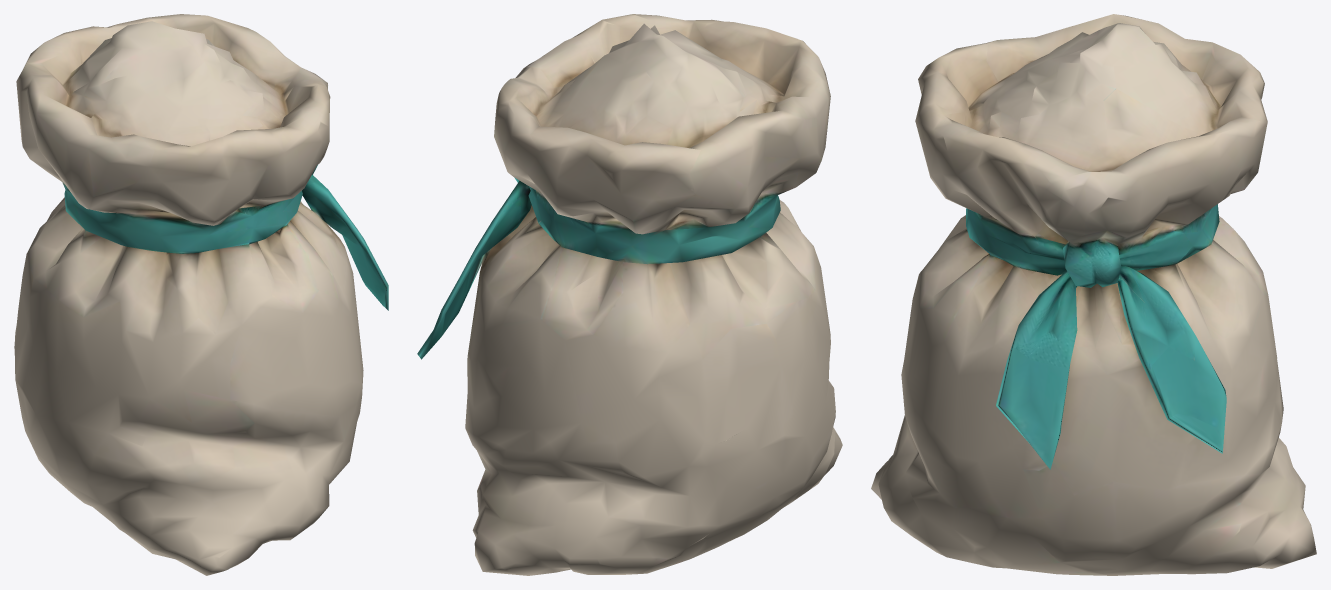
File: SM_Kitchen_FlourSack.glb
The picture shows the model from 3 angles, left to right: view 1: azimuth 30°, elevation 25°; view 2: azimuth 150°, elevation 25°; view 3: azimuth 270°, elevation 25°; orthographic projection. The views are drawn at different scales.
Visible parts, largest first — view 1: tripo_node_41fba392-cd81-4eb1-bbc8-2570275120d7; view 2: tripo_node_41fba392-cd81-4eb1-bbc8-2570275120d7; view 3: tripo_node_41fba392-cd81-4eb1-bbc8-2570275120d7.
Part boxes in pixels (x1=…): tripo_node_41fba392-cd81-4eb1-bbc8-2570275120d7: x1=14, y1=14, x2=388, y2=575; tripo_node_41fba392-cd81-4eb1-bbc8-2570275120d7: x1=417, y1=14, x2=842, y2=575; tripo_node_41fba392-cd81-4eb1-bbc8-2570275120d7: x1=871, y1=14, x2=1316, y2=575.
Bounding box in the file's own units: 0.7395 × 1 × 0.8096.
1 material, 1 textured.
